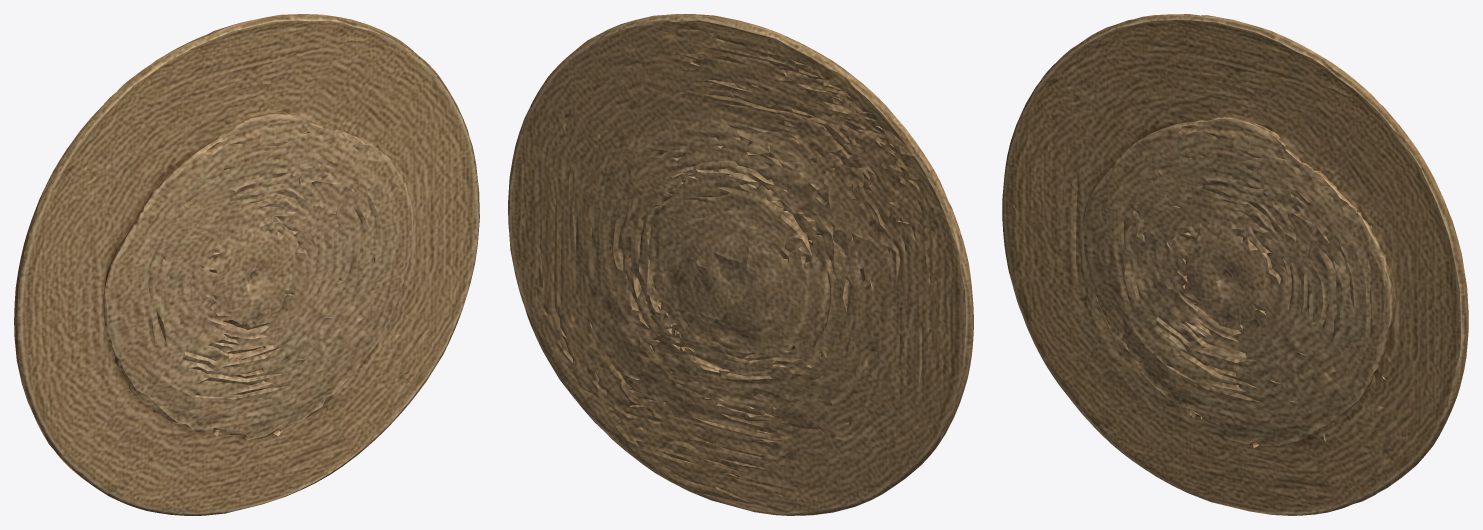
File: L_RUG_ROUND.glb
The picture shows the model from 3 angles, left to right: view 1: azimuth 30°, elevation 25°; view 2: azimuth 150°, elevation 25°; view 3: azimuth 330°, elevation 25°; orthographic projection.
Visible parts, largest first — view 1: world; view 2: world; view 3: world.
Boxes of the visible parts, x1,y1,x2,y2 form: world: (14, 14, 479, 515); world: (508, 14, 973, 515); world: (1002, 14, 1468, 515).
Size of the model in its own units: 0.38 by 0.38 by 0.0252.
1 material, 1 textured.
